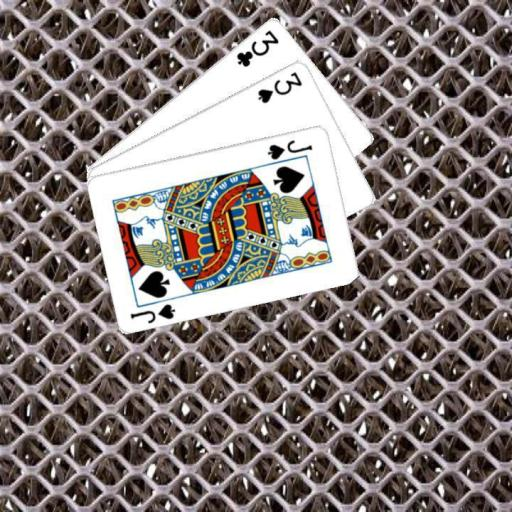card-corner: (233, 26, 281, 68), (254, 68, 304, 104), (264, 136, 314, 161), (127, 300, 177, 324)
